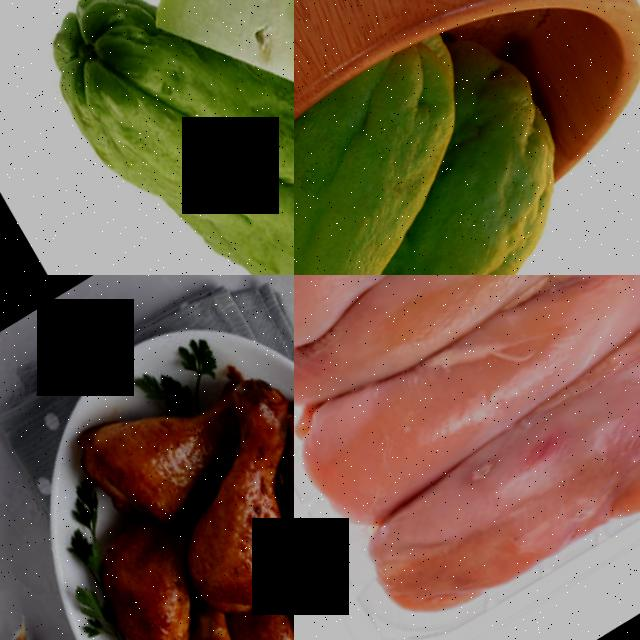chayote: (0, 0, 294, 275), (294, 89, 444, 275), (294, 214, 640, 275)
chicken breast: (341, 306, 640, 640), (294, 275, 640, 563), (294, 275, 640, 461), (294, 275, 586, 361)
chicken thigh: (123, 372, 294, 638)
